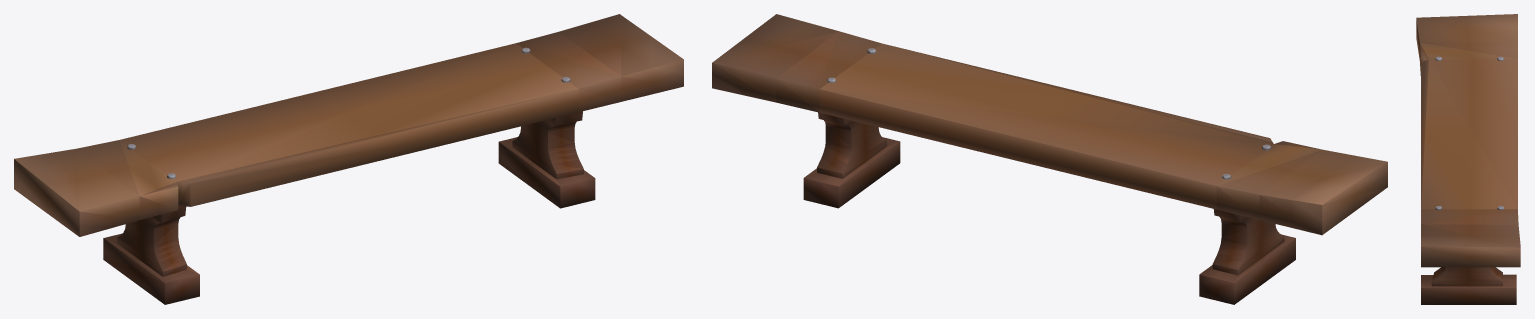
The model's file is prop_bench.glb.
3 views of the same model, side by side, from view 1: azimuth 30°, elevation 25°; view 2: azimuth 150°, elevation 25°; view 3: azimuth 270°, elevation 25° (orthographic). The views are drawn at different scales.
Parts seen in each view (by area): view 1: refined; view 2: refined; view 3: refined.
Part boxes in pixels (bbox=[...]): refined: bbox=[14, 14, 683, 304]; refined: bbox=[712, 14, 1387, 304]; refined: bbox=[1416, 14, 1520, 304].
Bounding box in the file's own units: 2.78 × 0.5332 × 0.5343.
